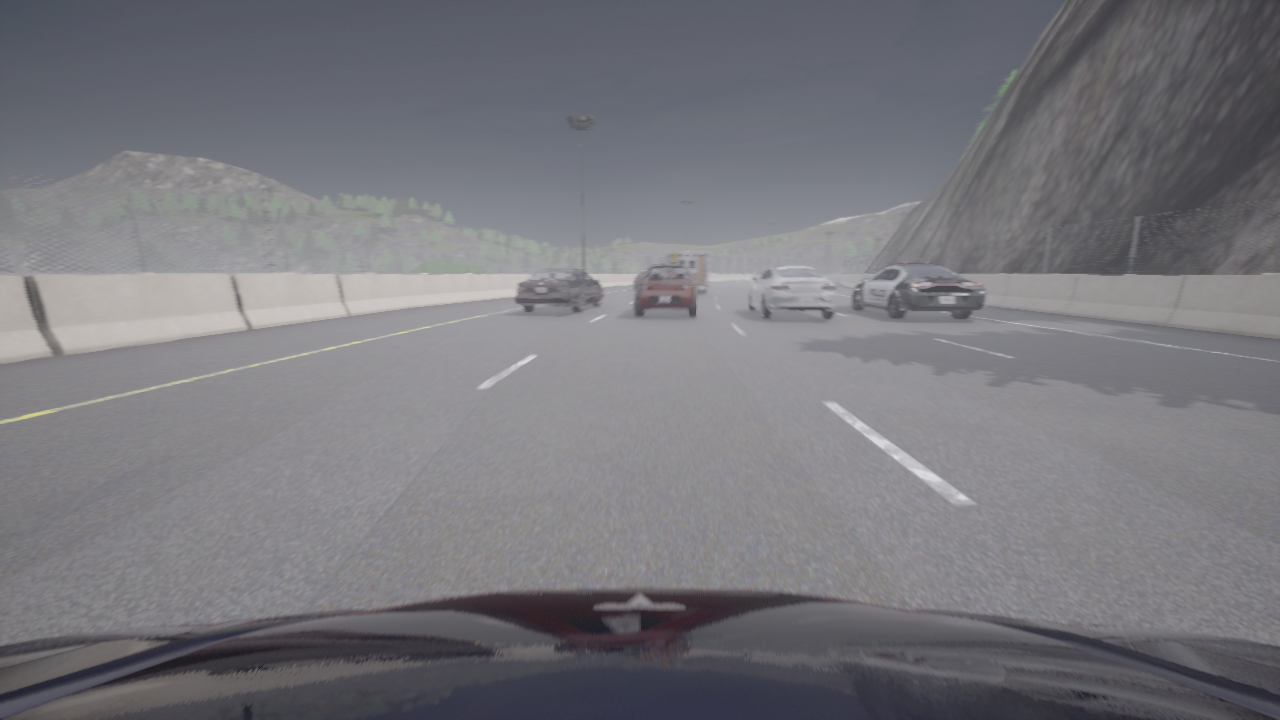cyclist: (0, 588, 1279, 719), (851, 262, 987, 319), (749, 265, 836, 319), (514, 267, 603, 312), (635, 264, 697, 317), (667, 251, 713, 293), (634, 270, 646, 289)
